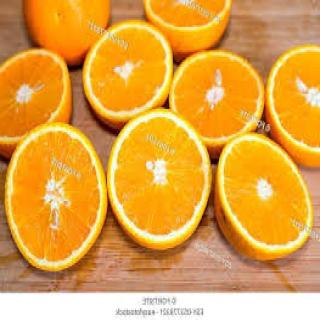orange: (0, 117, 110, 281), (105, 106, 212, 272), (211, 128, 319, 267), (0, 33, 76, 188), (84, 13, 174, 137)
